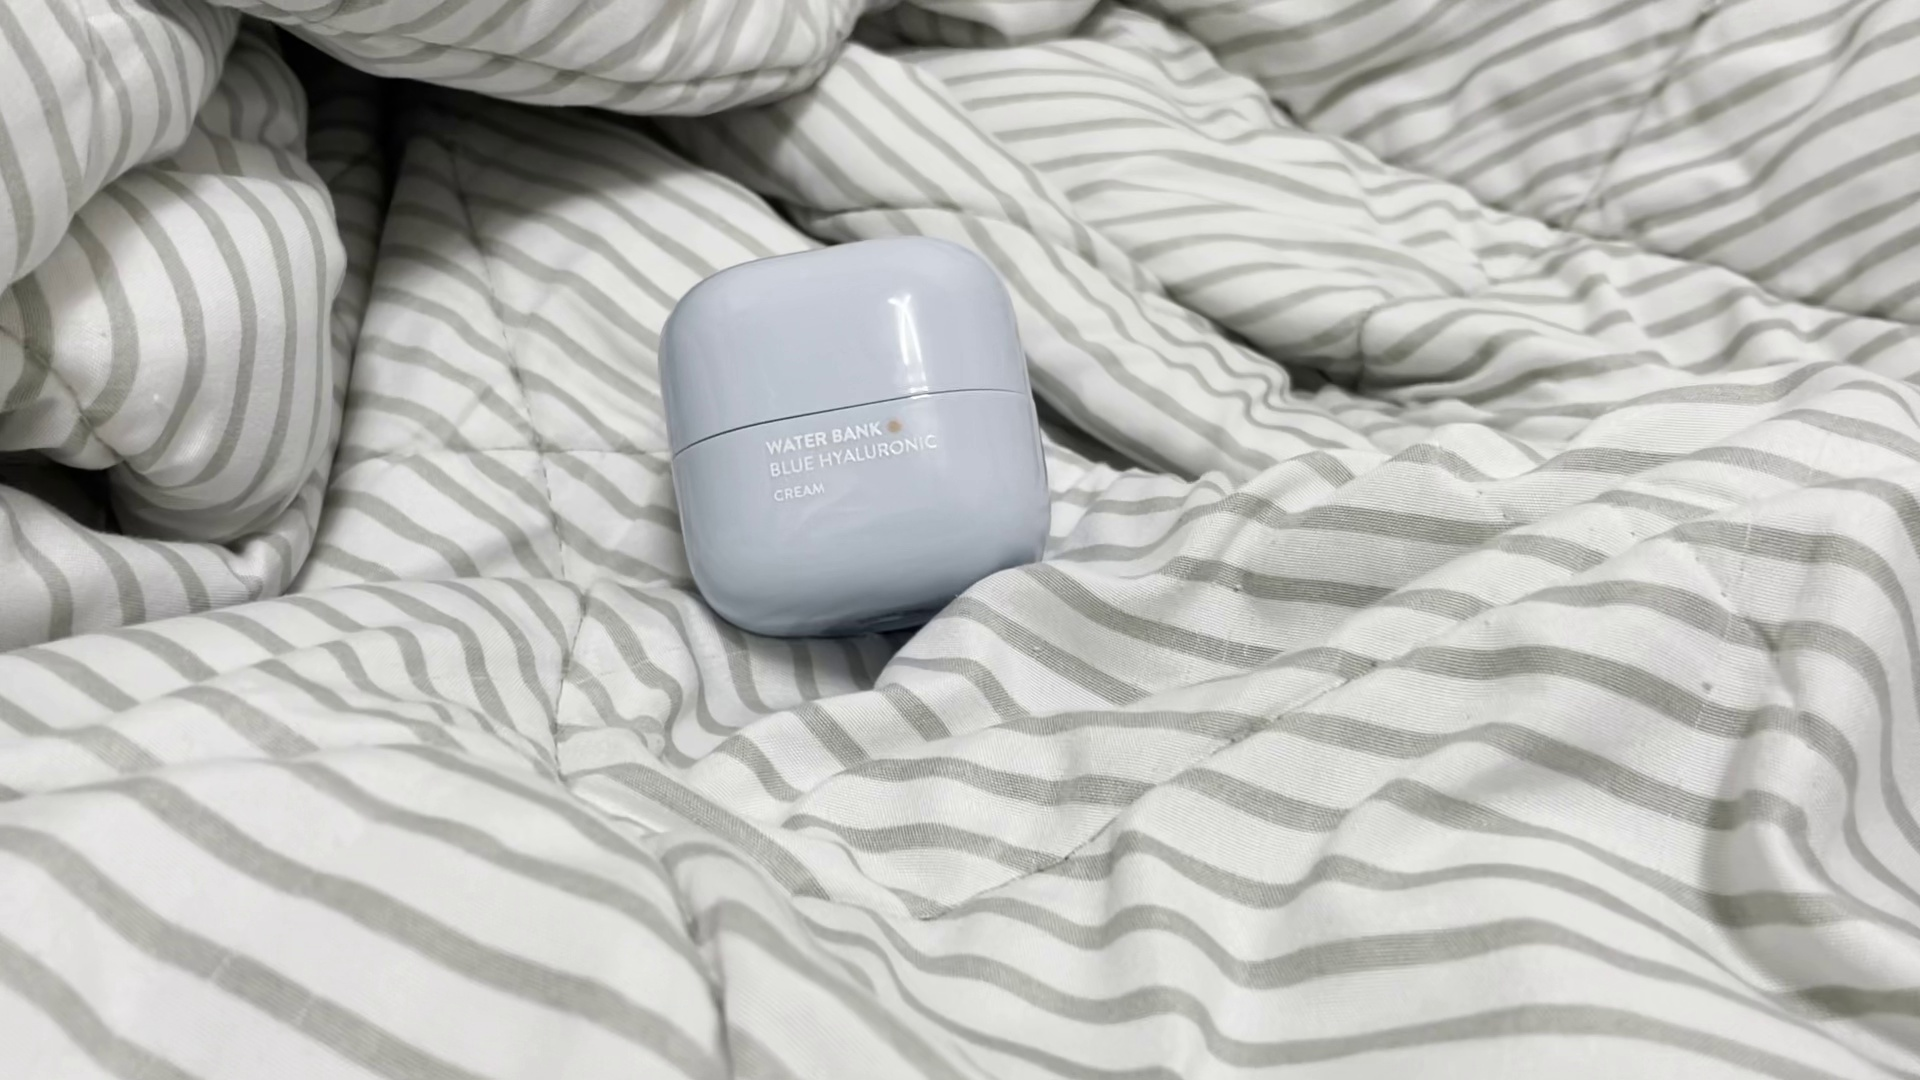cream: (657, 239, 1059, 636)
